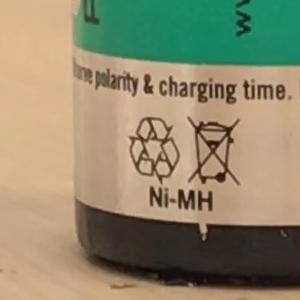NI-MH: (140, 180, 223, 217)
